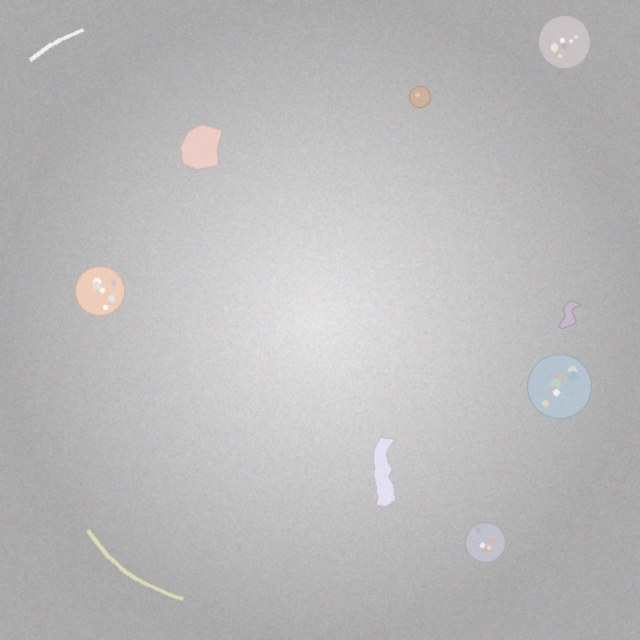fiber: (83, 526, 187, 603), (26, 27, 87, 64)
film: (374, 438, 396, 506), (559, 300, 581, 328)
foam: (527, 355, 591, 419), (538, 15, 591, 68), (76, 266, 125, 315), (465, 522, 505, 562)
fragment: (181, 124, 222, 170)
pellet: (409, 87, 430, 108)
